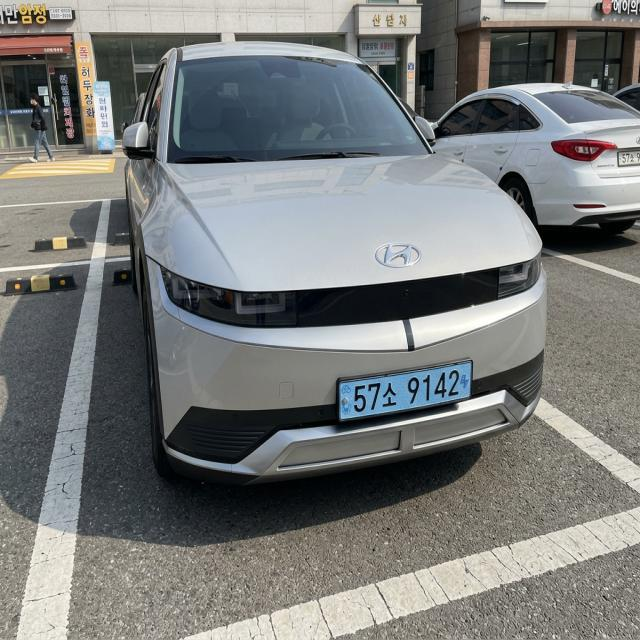car: (321, 348, 485, 431)
carev: (457, 365, 473, 404), (338, 379, 352, 422)
